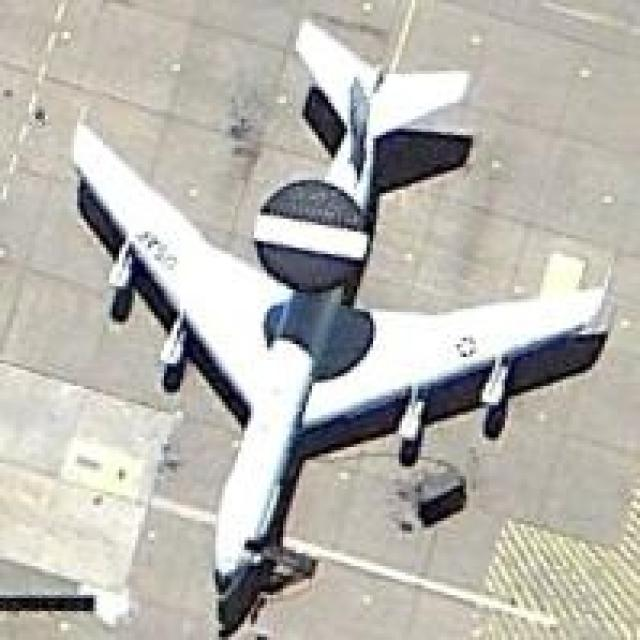E-3_TopDown: (65, 9, 618, 636)
